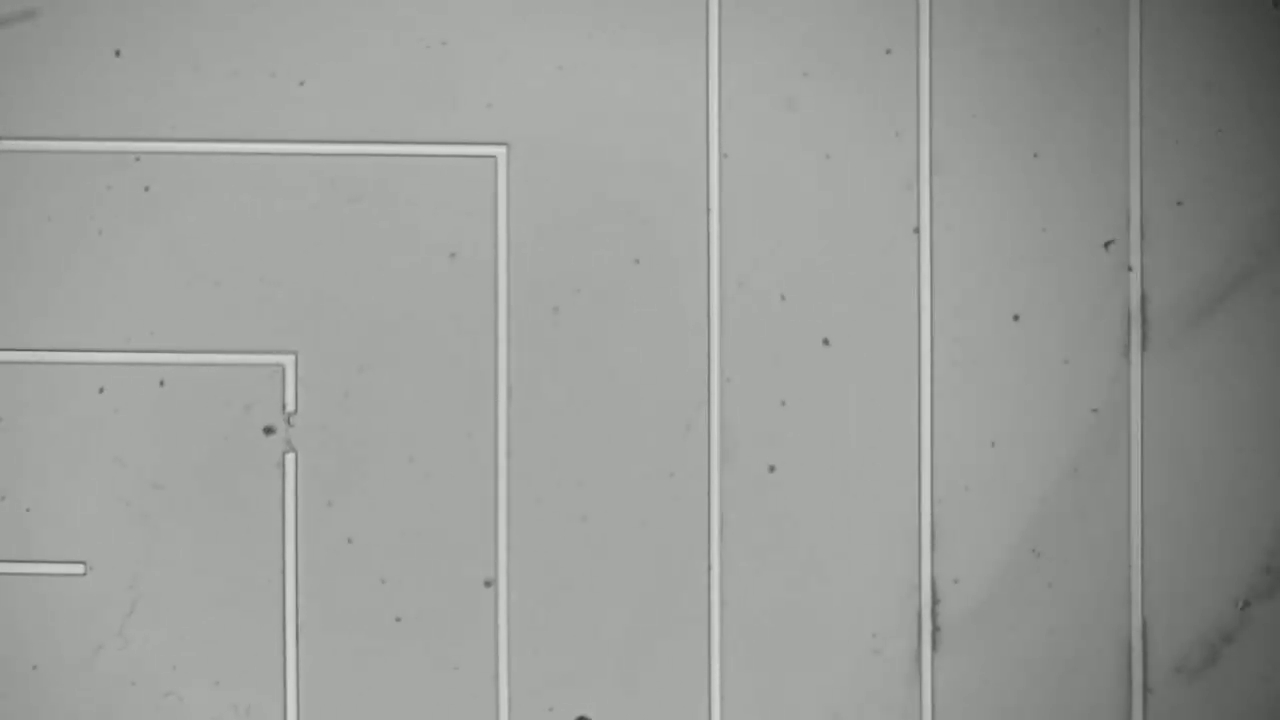open: (272, 390, 307, 472)
